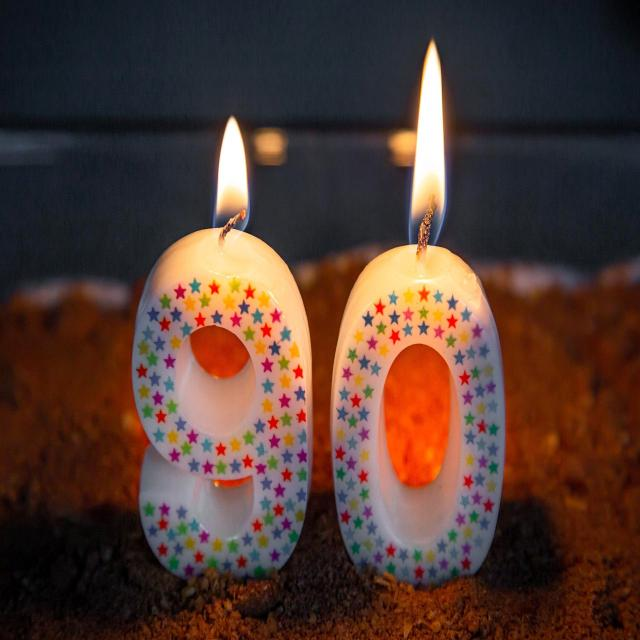Fire_Save: (330, 37, 506, 587), (131, 114, 313, 580)
